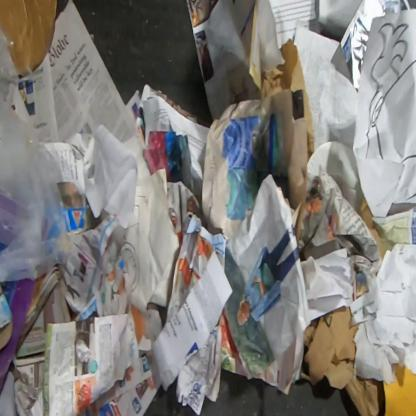cardboard: (299, 306, 387, 415), (0, 0, 57, 76), (0, 279, 34, 397), (356, 195, 386, 263), (0, 283, 13, 350)
rigid_plastic: (0, 26, 24, 84)
soft_plastic: (0, 95, 70, 283)
